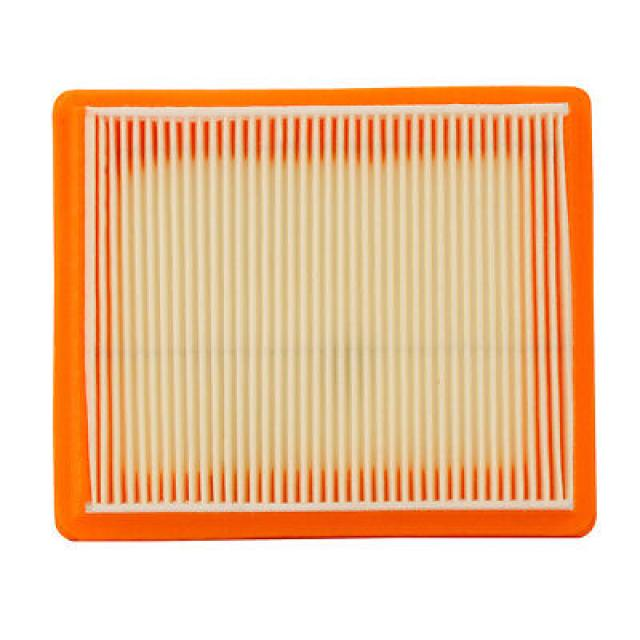air_filter: (46, 74, 602, 557)
